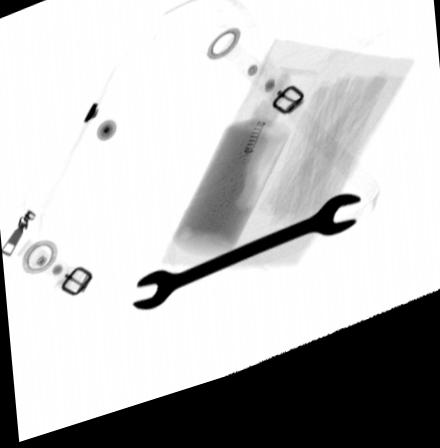Wrench: (132, 213, 364, 321)
